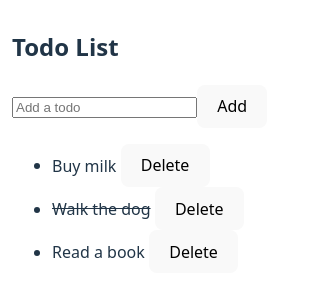
TodoList component › can add a new todo
The image size is (332, 301).
In the field with test id "add-input": (104, 108) [12,97,197,118], type "New task"
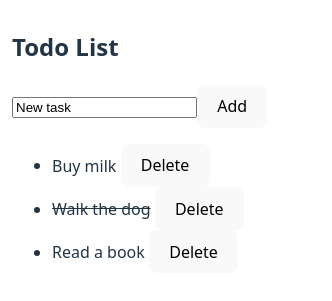
Click the button with test id "add-button": (232, 106) [197,84,267,128]
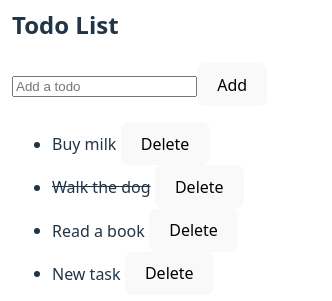
expect the text "New task" is shown: met, box [52,262,121,284]
